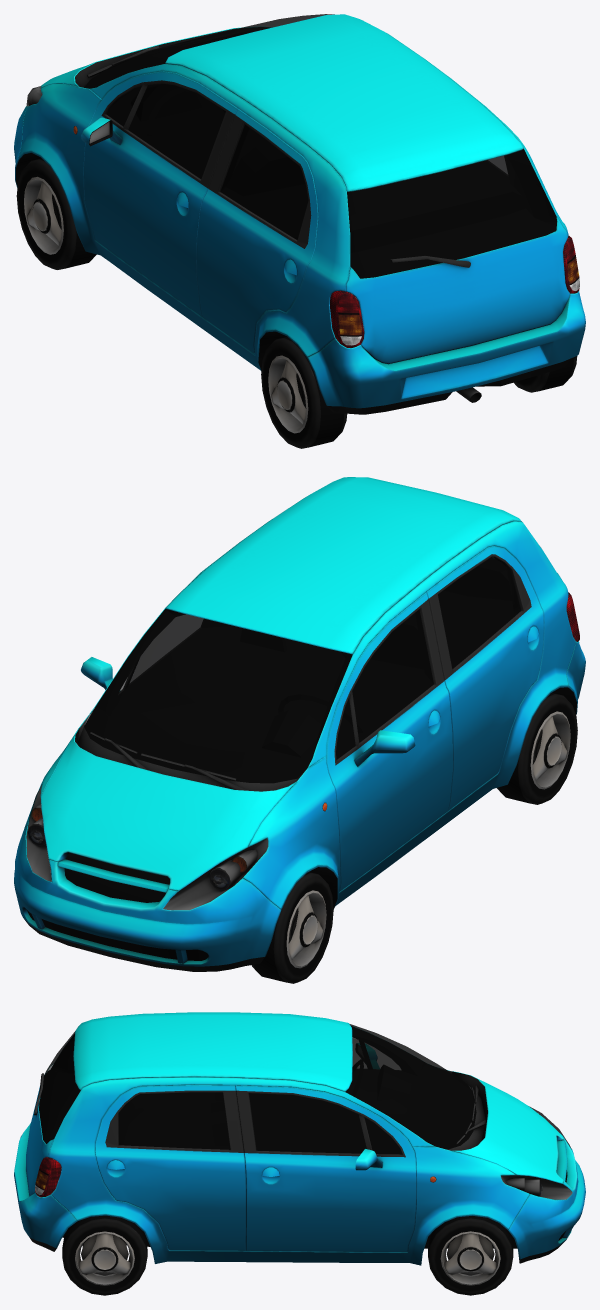
The model's file is pack_2.glb.
3 renders of one model, top to bottom at view 1: azimuth 30°, elevation 25°; view 2: azimuth 150°, elevation 25°; view 3: azimuth 270°, elevation 25°, orthographic. The views are drawn at different scales.
Parts seen in each view (by area): view 1: pack_2; view 2: pack_2; view 3: pack_2.
Part boxes in pixels (x1,y1,x2,y2): pack_2: (14,14,585,448); pack_2: (14,477,585,983); pack_2: (14,1012,585,1295).
Size of the model in its own units: 2.17 by 1.78 by 4.4.
Materials: 4 (3 with a texture image).
